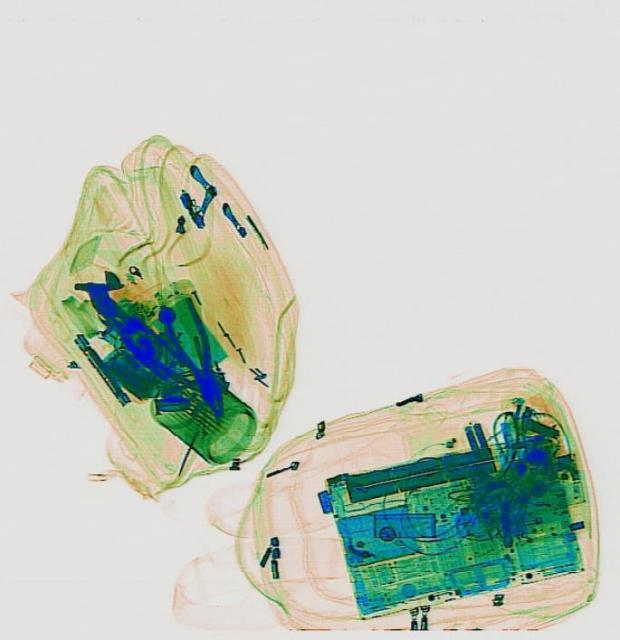Pliers: (152, 294, 241, 424)
